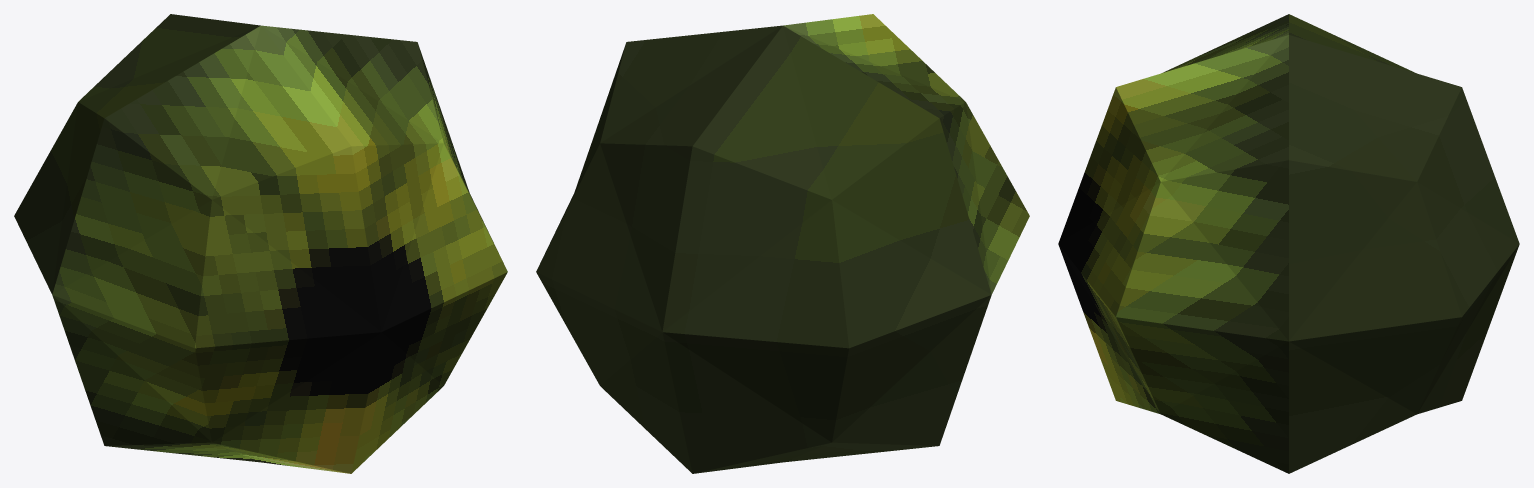
Rendered from eyewigeye.obj.
The picture shows the model from 3 angles, left to right: view 1: azimuth 30°, elevation 25°; view 2: azimuth 150°, elevation 25°; view 3: azimuth 270°, elevation 25°; orthographic projection. The views are drawn at different scales.
Visible parts, largest first — view 1: eyewigeye; view 2: eyewigeye; view 3: eyewigeye.
Part boxes in pixels (left/top/right/bottom): eyewigeye: left=14, top=14, right=507, bottom=473; eyewigeye: left=536, top=14, right=1029, bottom=473; eyewigeye: left=1058, top=14, right=1519, bottom=473.
Bounding box in the file's own units: 0.3814 × 0.3814 × 0.3814.
